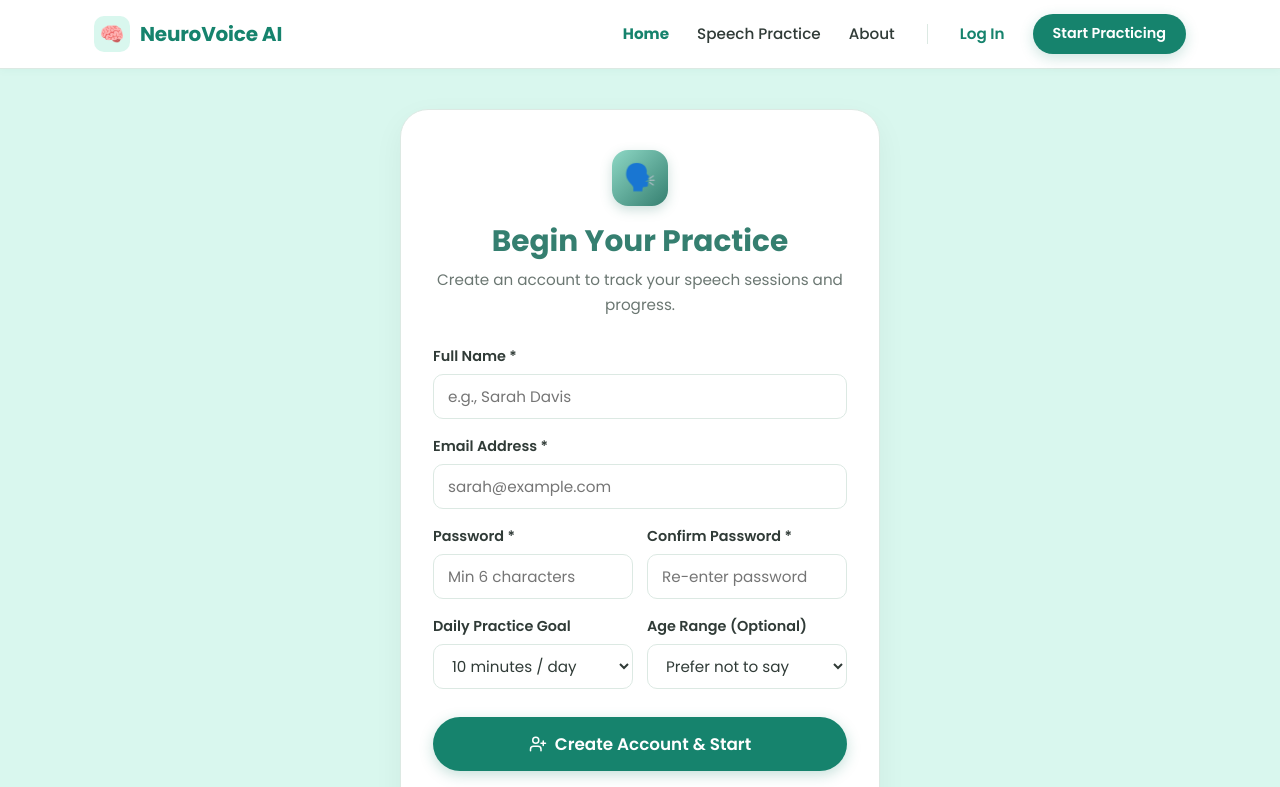
Test: Authentication Pages › displays validation error when passwords do not match on registration
Type "Test User" into the field with placeholder "e.g., Sarah Davis".
click(640, 397); type("Test User")  # box [433,374,847,419]
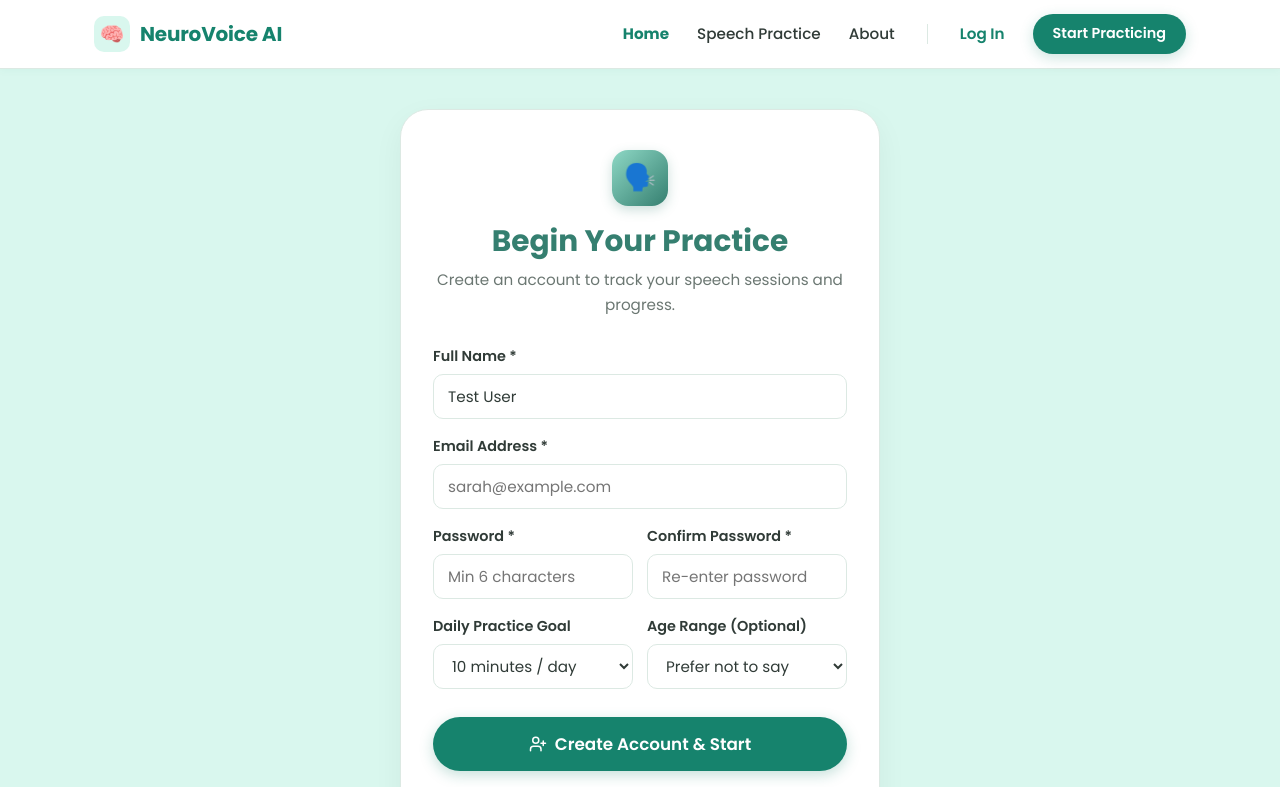
Type "test@example.com" into the field with placeholder "sarah@example.com".
click(640, 487); type("test@example.com")  # box [433,464,847,509]
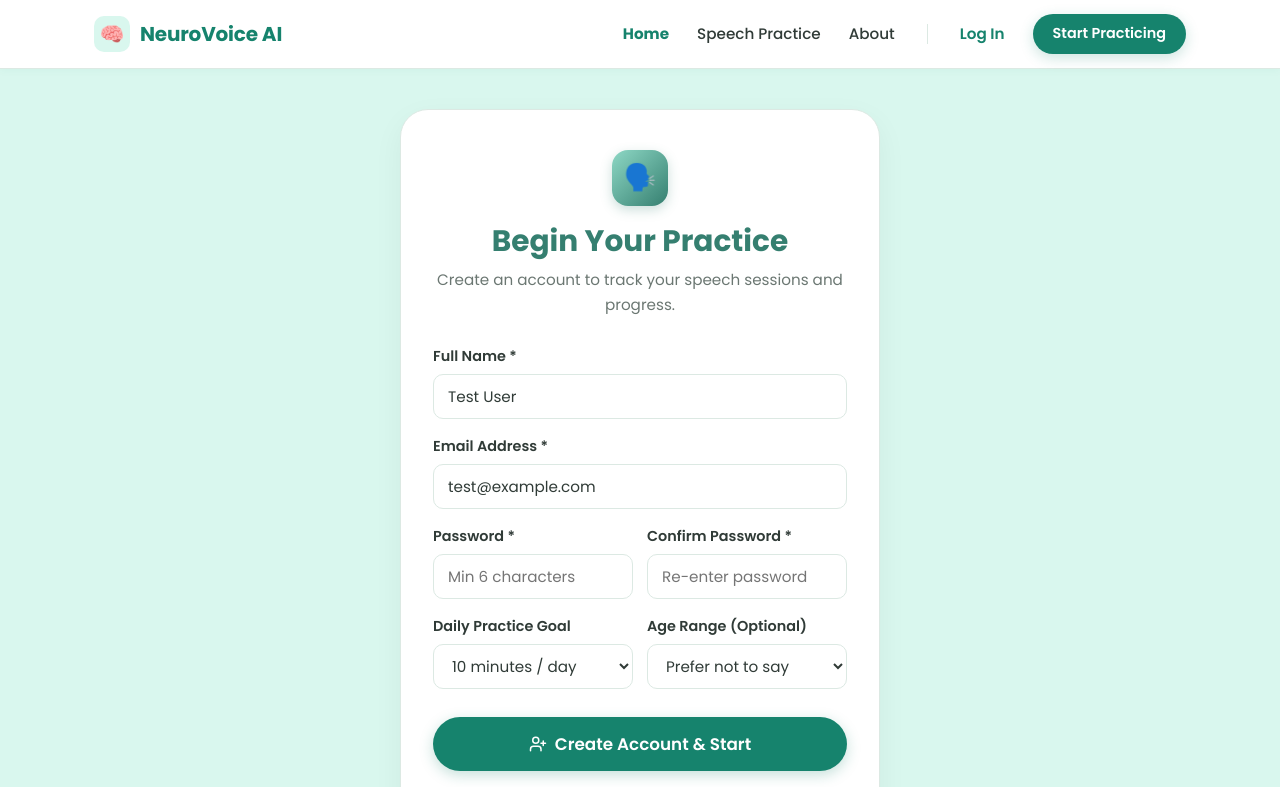
Type "Password123" into the password field with placeholder "Min 6 characters".
click(533, 577); type("Password123")  # box [433,554,633,599]
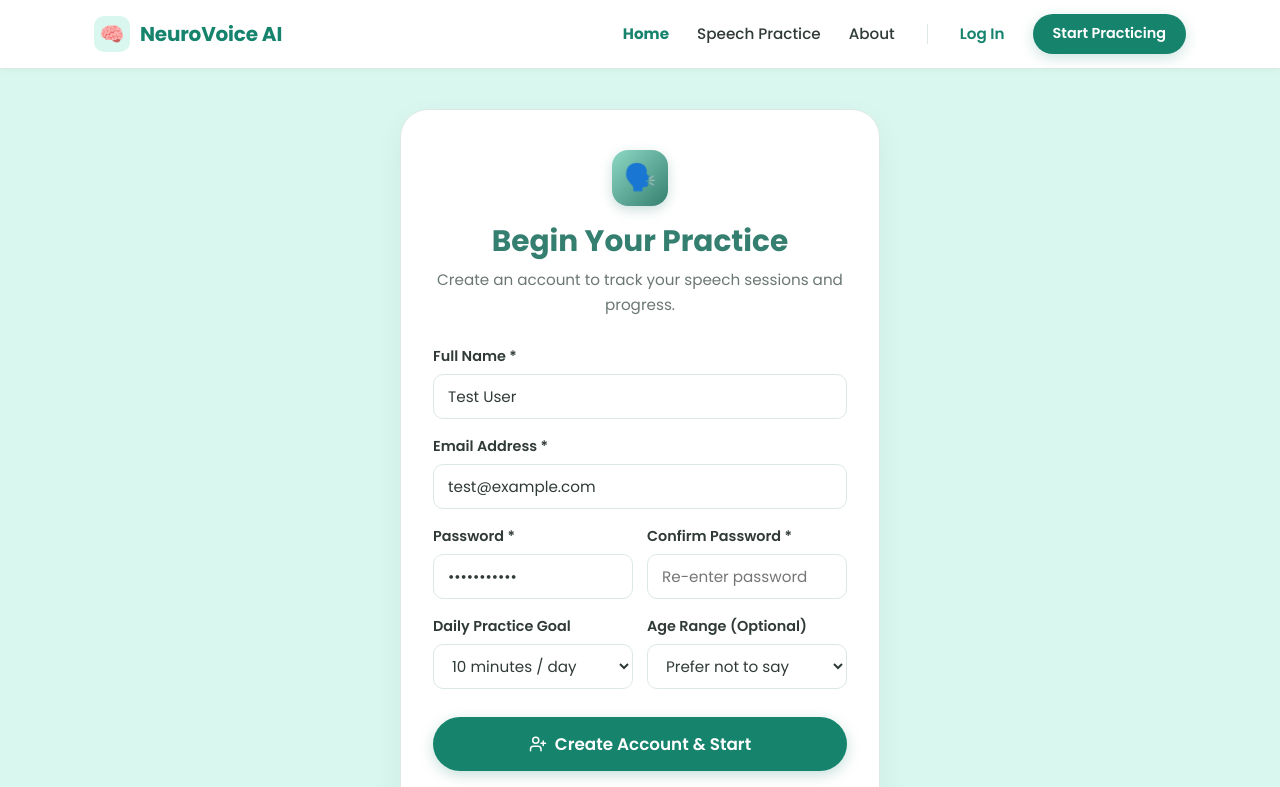
Type "MismatchPassword" into the password field with placeholder "Re-enter password".
click(747, 577); type("MismatchPassword")  # box [647,554,847,599]
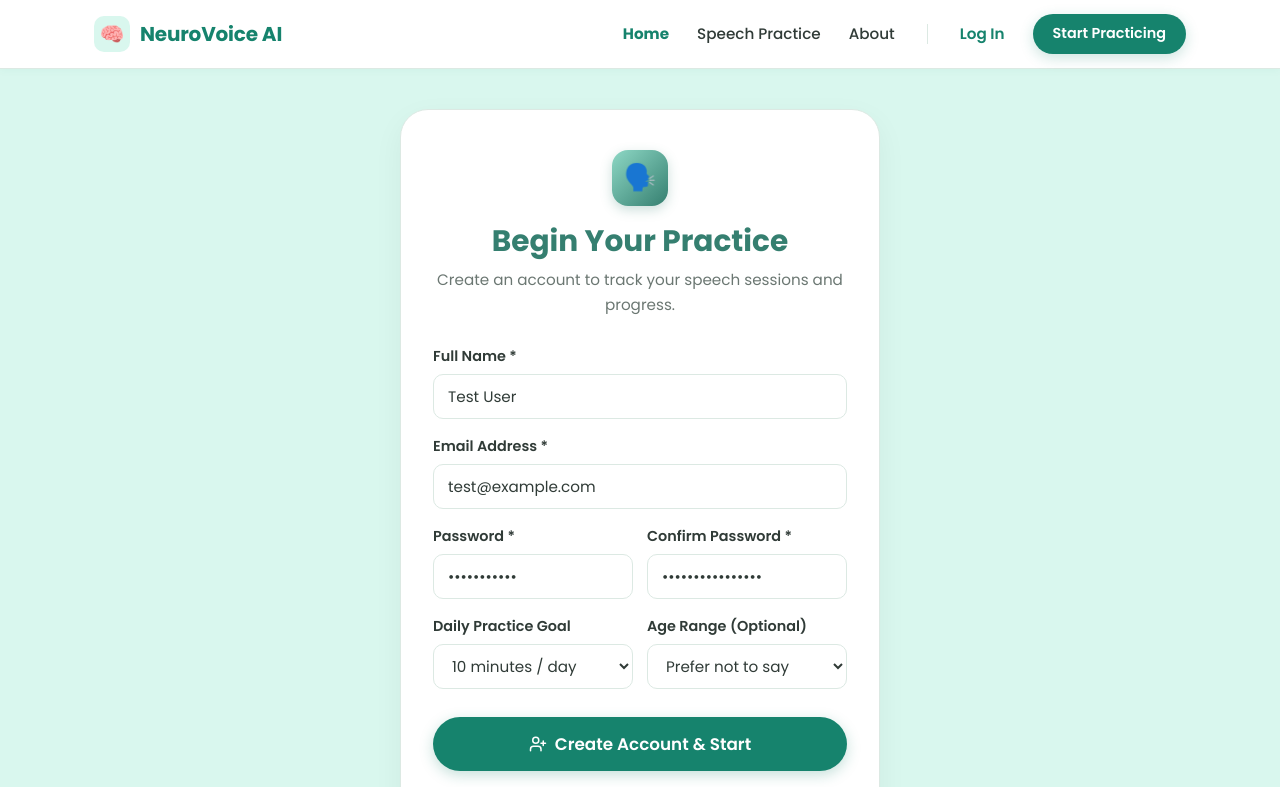
Click the button "Create Account & Start".
click(640, 744)  # box [433,717,847,771]
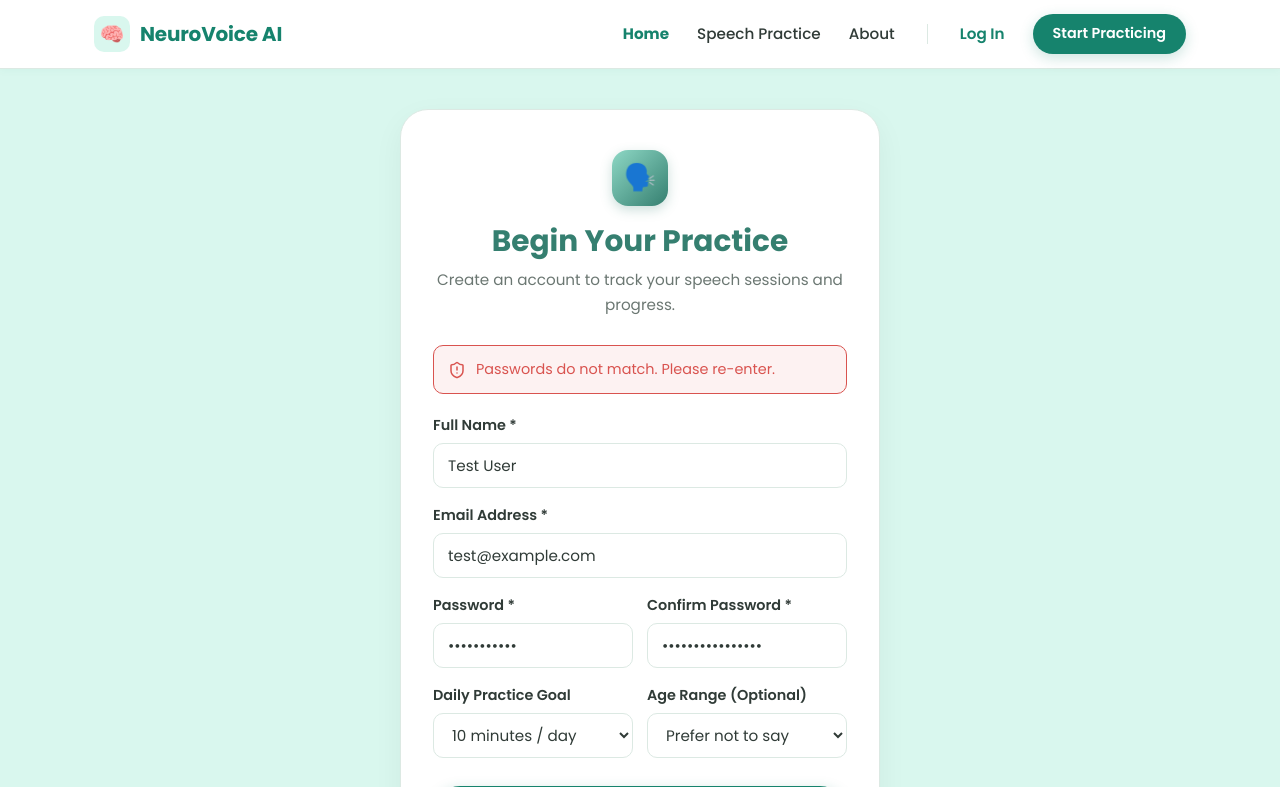
expect the text "Passwords do not match. Please re-enter." is shown: met, box [476,358,775,381]
